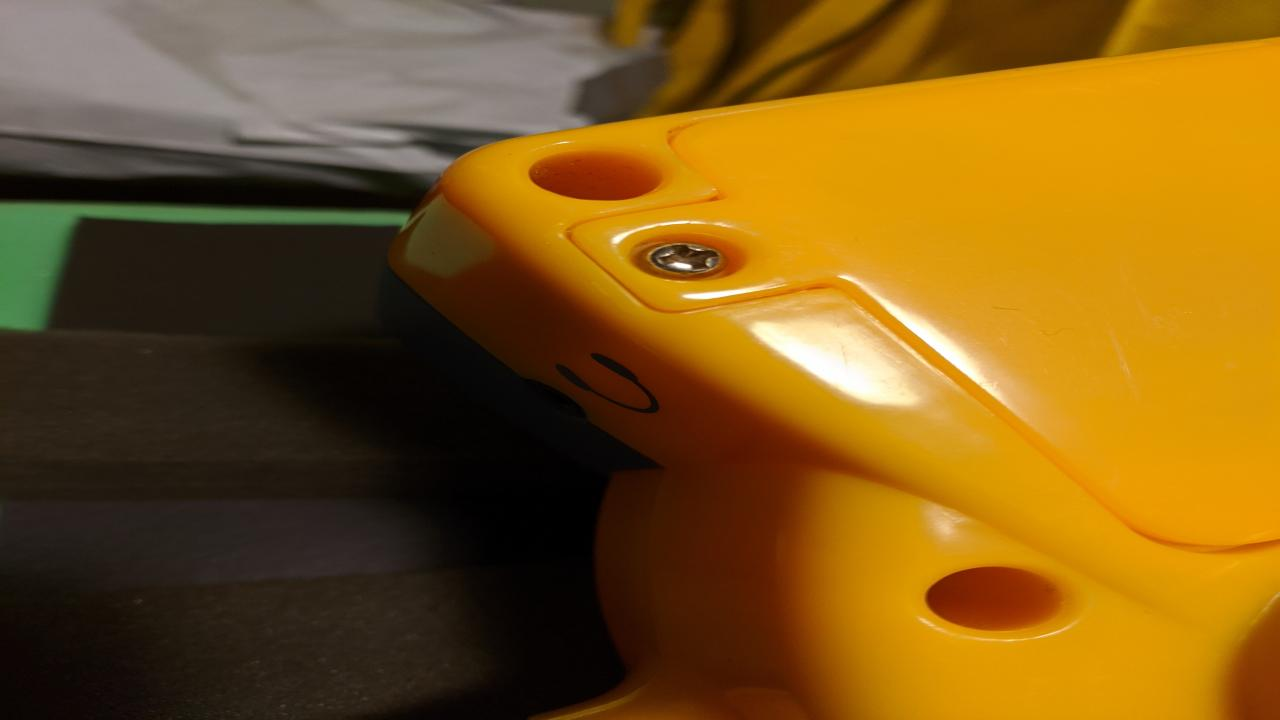CRS: (642, 240, 732, 278)
